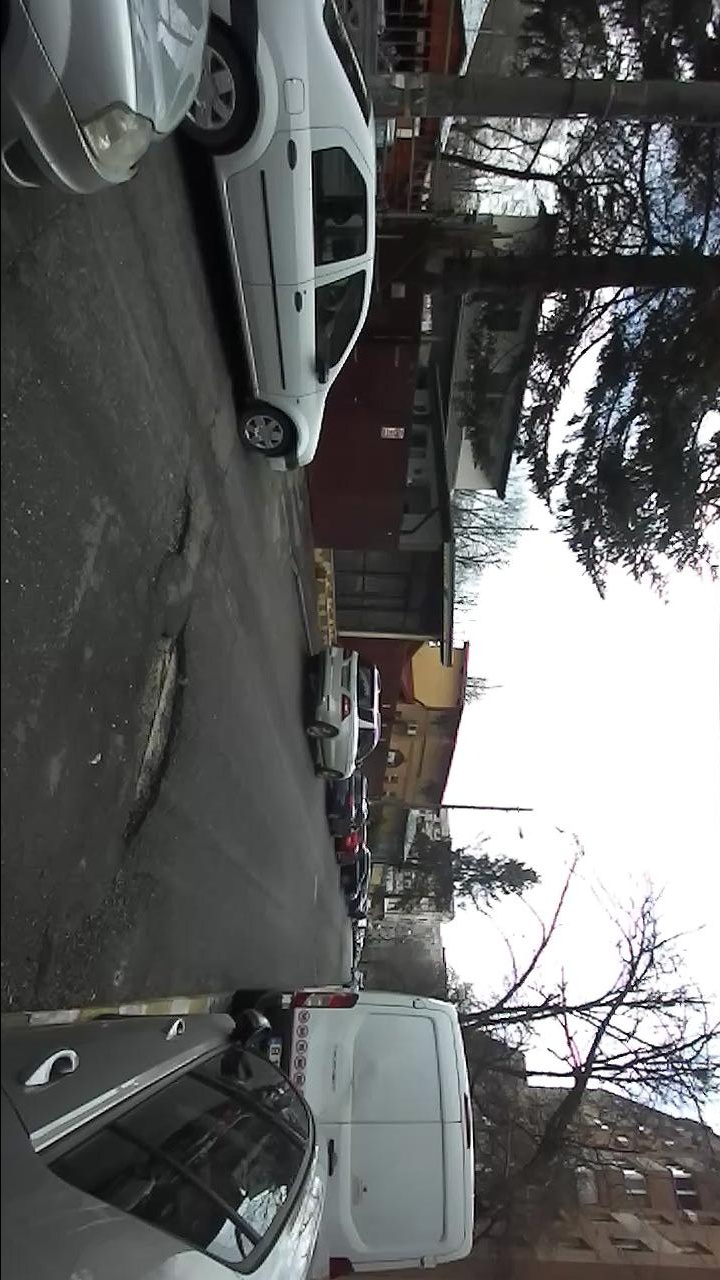pothole: (114, 619, 192, 858), (145, 475, 197, 594)
